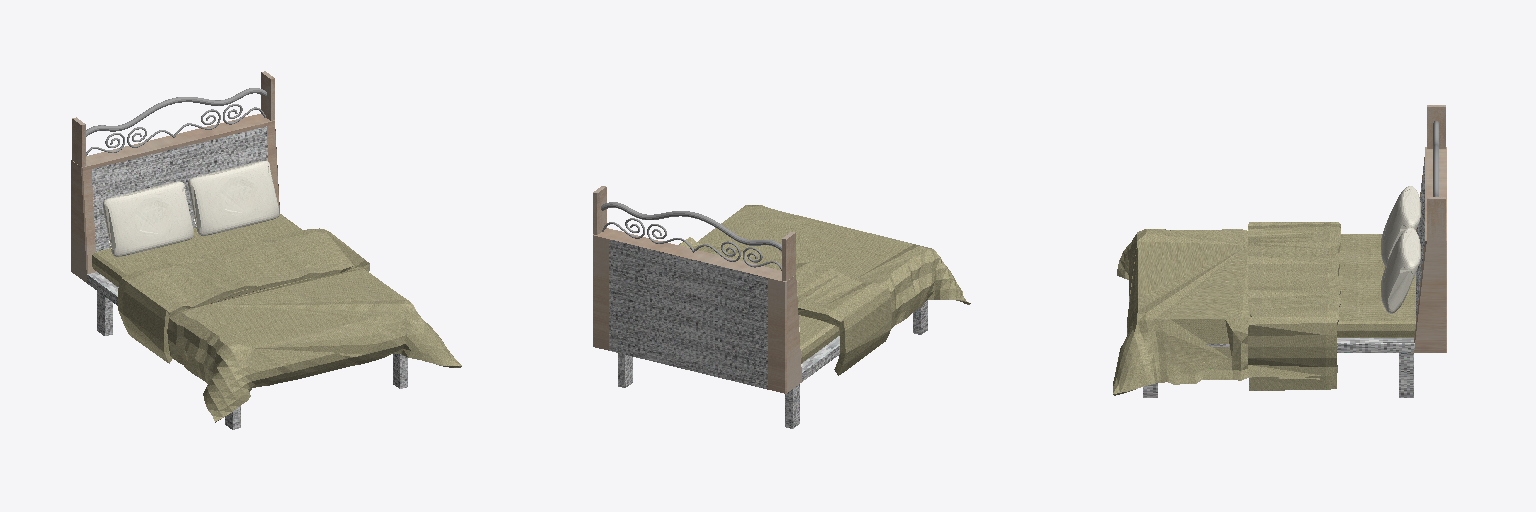
3 renders of one model, left to right at view 1: azimuth 30°, elevation 25°; view 2: azimuth 150°, elevation 25°; view 3: azimuth 270°, elevation 25°, orthographic.
Visible parts, largest first — view 1: Plane_Plane.001, Cube.009_Cube.013, Cube.012_Cube.002, Cube.000_Cube.005, Cube.010_Cube.033; view 2: Cube.009_Cube.013, Plane_Plane.001, Cube.010_Cube.033; view 3: Plane_Plane.001, Cube.009_Cube.013, Cube.010_Cube.033, Cube.000_Cube.005, Cube.012_Cube.002.
Boxes of the visible parts, x1,y1,x2,y2 form: Plane_Plane.001: [118, 228, 461, 422]; Cube.009_Cube.013: [71, 71, 407, 429]; Cube.012_Cube.002: [103, 181, 193, 256]; Cube.000_Cube.005: [188, 161, 278, 235]; Cube.010_Cube.033: [92, 213, 302, 286]; Cube.009_Cube.013: [593, 186, 927, 428]; Plane_Plane.001: [679, 205, 970, 375]; Cube.010_Cube.033: [799, 315, 839, 363]; Plane_Plane.001: [1113, 222, 1341, 395]; Cube.009_Cube.013: [1143, 105, 1446, 397]; Cube.010_Cube.033: [1337, 234, 1415, 337]; Cube.000_Cube.005: [1381, 227, 1420, 313]; Cube.012_Cube.002: [1381, 186, 1420, 266].
Bounding box in the file's own units: 14.02 × 11.12 × 16.59.
5 materials, 4 textured.